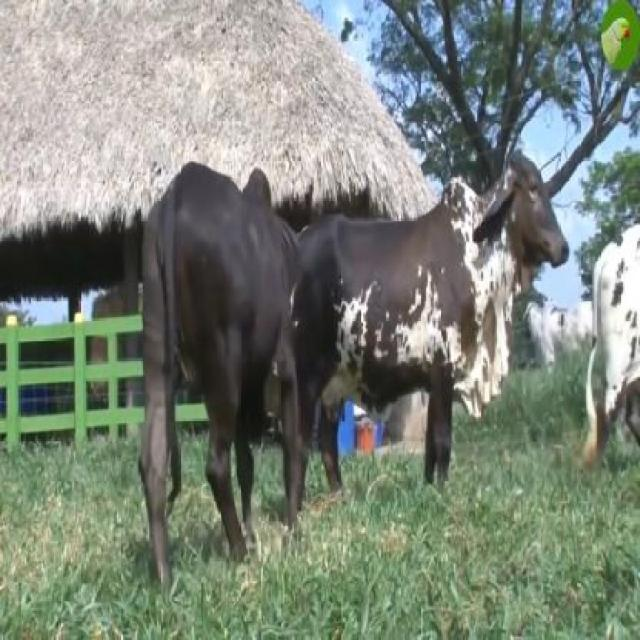Cow: (294, 151, 571, 509)
